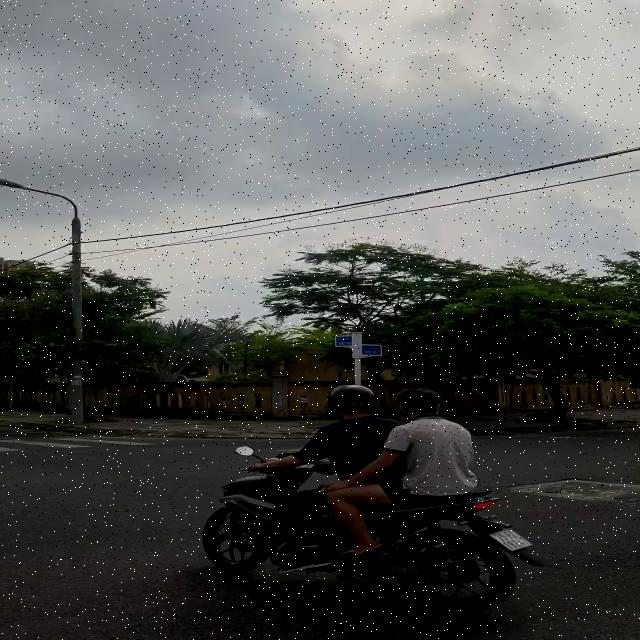with_helmet: (328, 385, 379, 428)
without_helmet: (395, 384, 451, 422)
